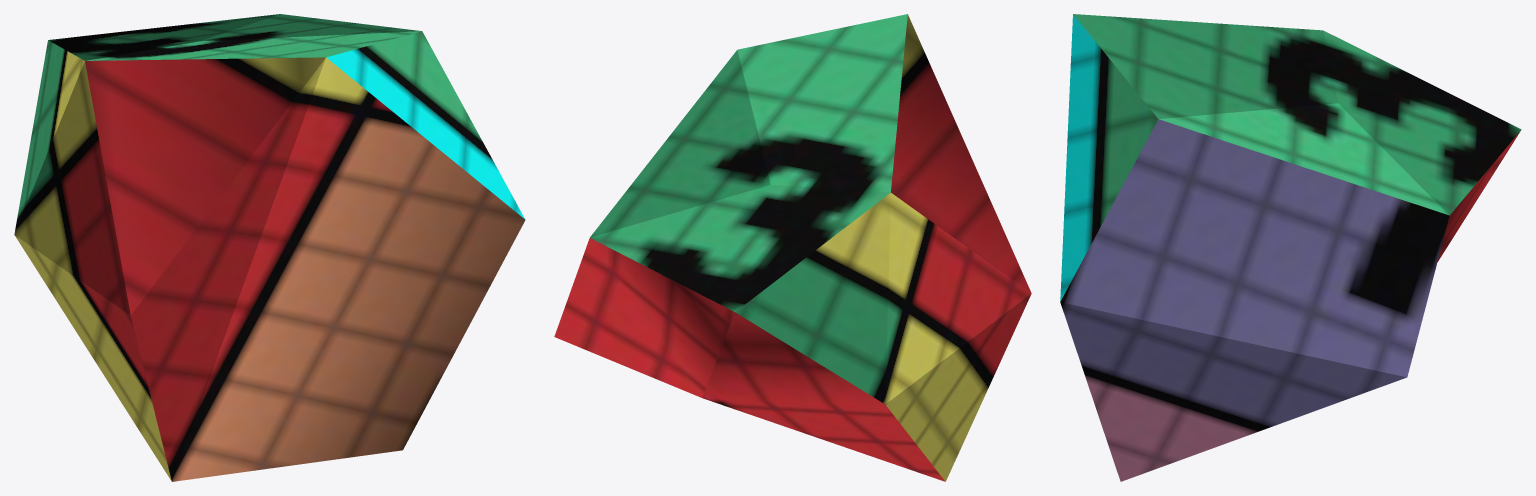
The model's file is lprock1.FBX.
3 views of the same model, side by side, from view 1: azimuth 30°, elevation 25°; view 2: azimuth 150°, elevation 25°; view 3: azimuth 270°, elevation 25° (orthographic). The views are drawn at different scales.
Parts seen in each view (by area): view 1: rock1; view 2: rock1; view 3: rock1.
Boxes of the visible parts, <box> form: rock1: <box>14,14,525,481</box>; rock1: <box>554,14,1031,481</box>; rock1: <box>1060,14,1521,481</box>.
Size of the model in its own units: 48.85 by 55.08 by 54.03.
1 material, 1 textured.
